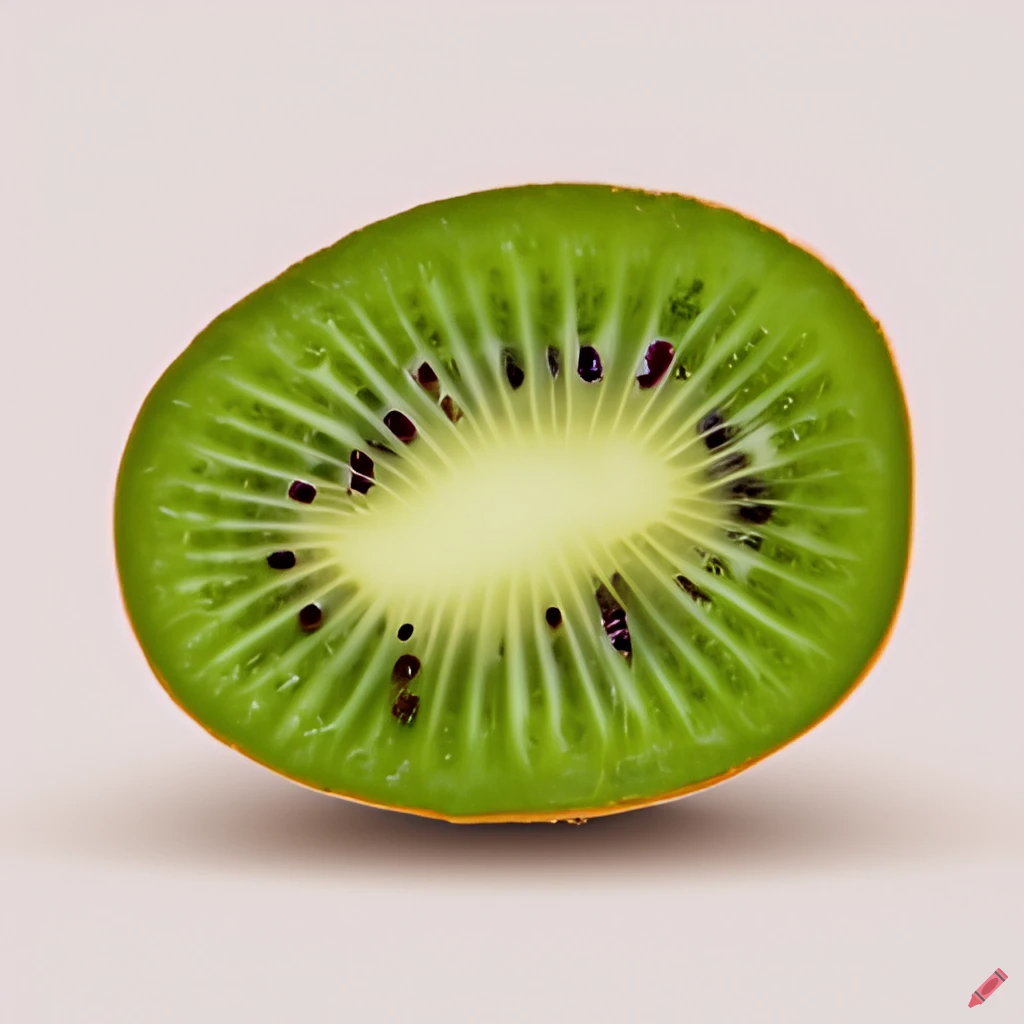Kiwi: (110, 194, 920, 852)
